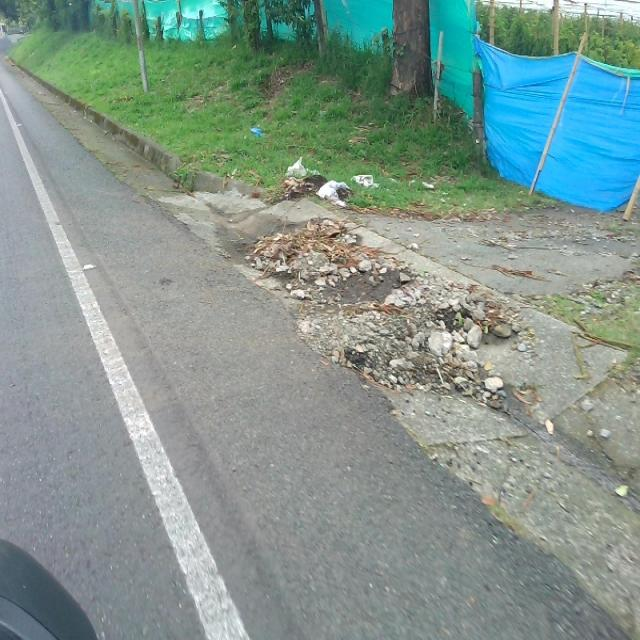DITCH: (3, 41, 638, 637), (68, 54, 638, 637), (68, 78, 638, 638)
